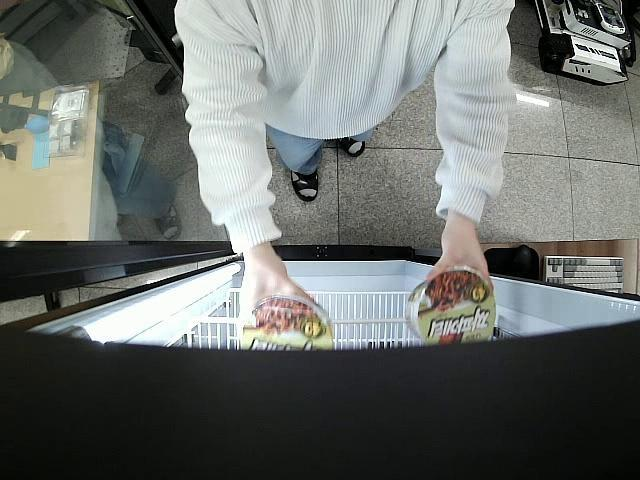03_chapagetti_L: (401, 270, 496, 344), (236, 297, 336, 354)
